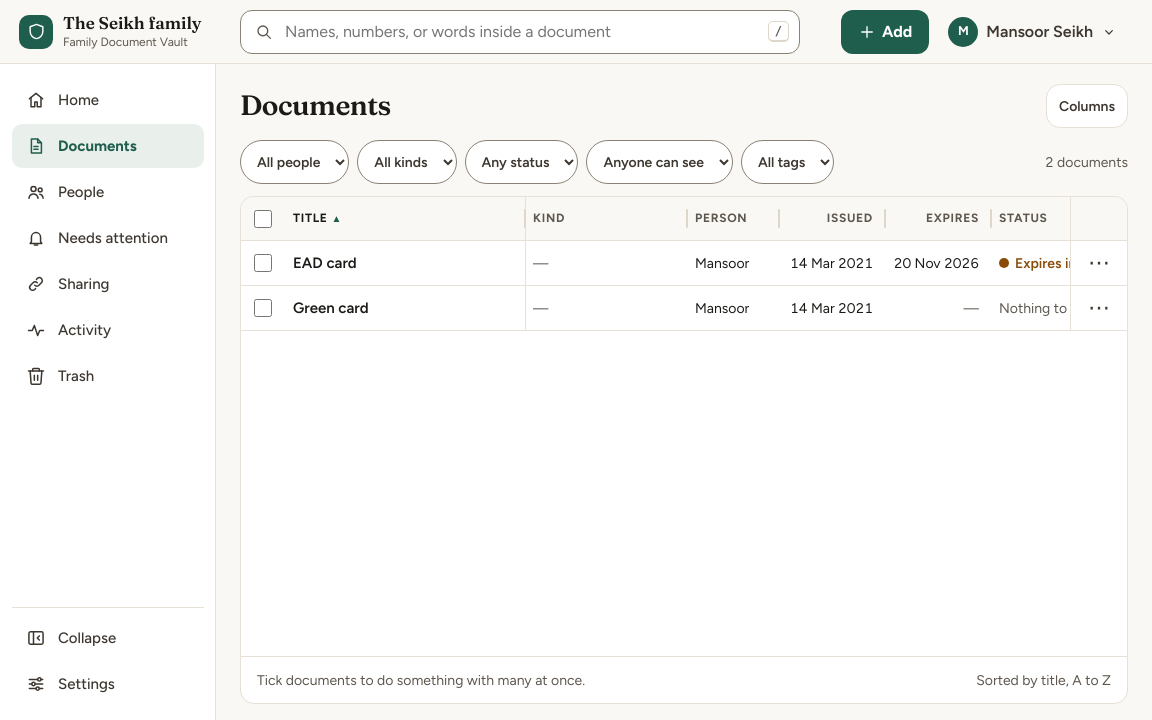
Test: no longer needed, on the web (0.9.0) › the Documents table’s bulk bar offers it no more (0.9.0)
Click the checkbox named "Select “EAD card”" next to "EAD card" at (263, 263), box [254,254,272,272]
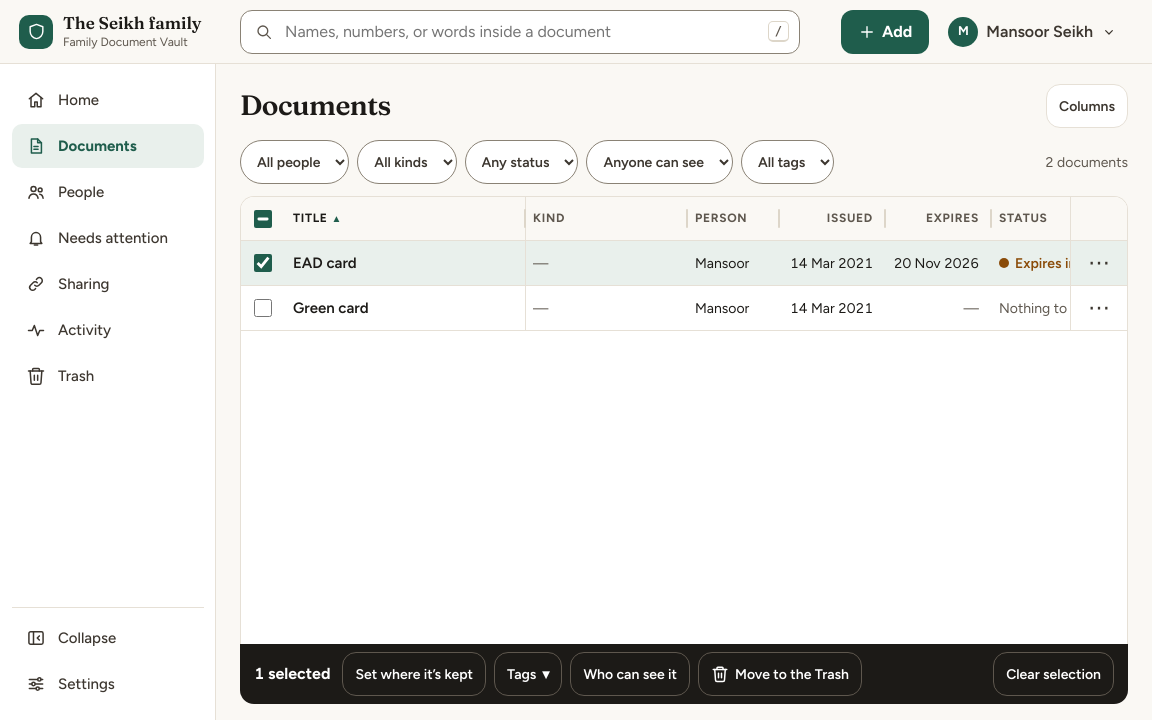
Now the button "Move to the Trash" is shown, box [698,652,862,696]
